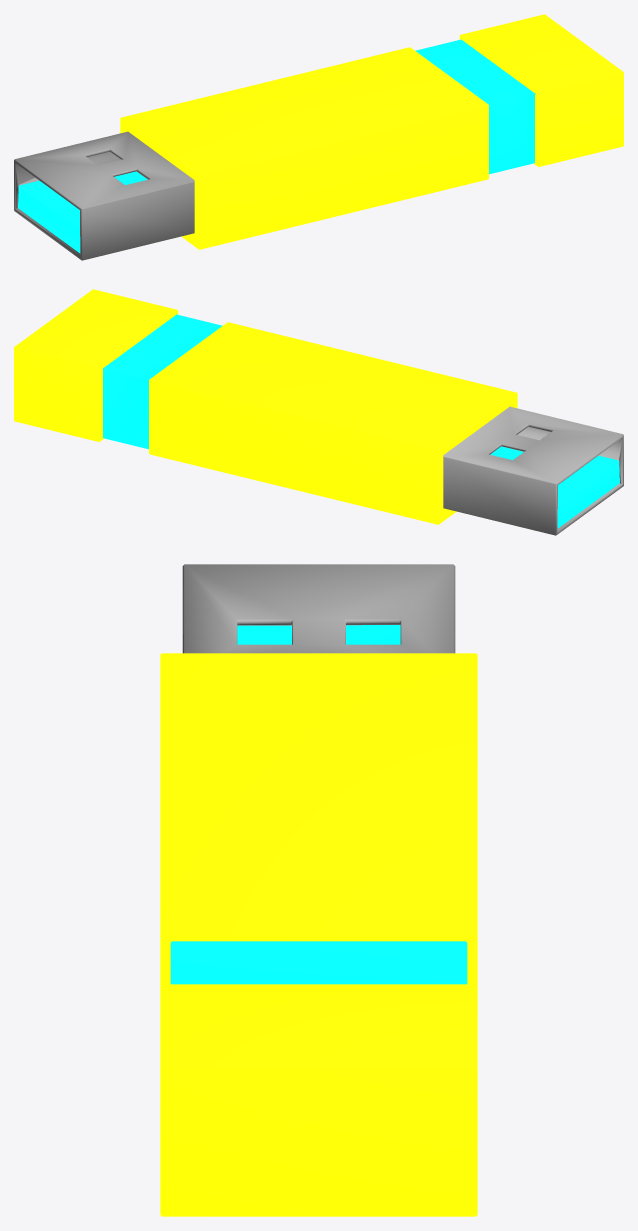
The model's file is Pen_Drive_Gold.fbx.
The picture shows the model from 3 angles, top to bottom: view 1: azimuth 30°, elevation 25°; view 2: azimuth 150°, elevation 25°; view 3: azimuth 270°, elevation 25°; orthographic projection. The views are drawn at different scales.
Visible parts, largest first — view 1: Pen_Drive_Gold; view 2: Pen_Drive_Gold; view 3: Pen_Drive_Gold.
Part boxes in pixels (left/top/right/bottom): Pen_Drive_Gold: left=14, top=14, right=623, bottom=260; Pen_Drive_Gold: left=14, top=289, right=623, bottom=535; Pen_Drive_Gold: left=160, top=564, right=477, bottom=1216.
Bounding box in the file's own units: 138 × 18.39 × 35.32.
